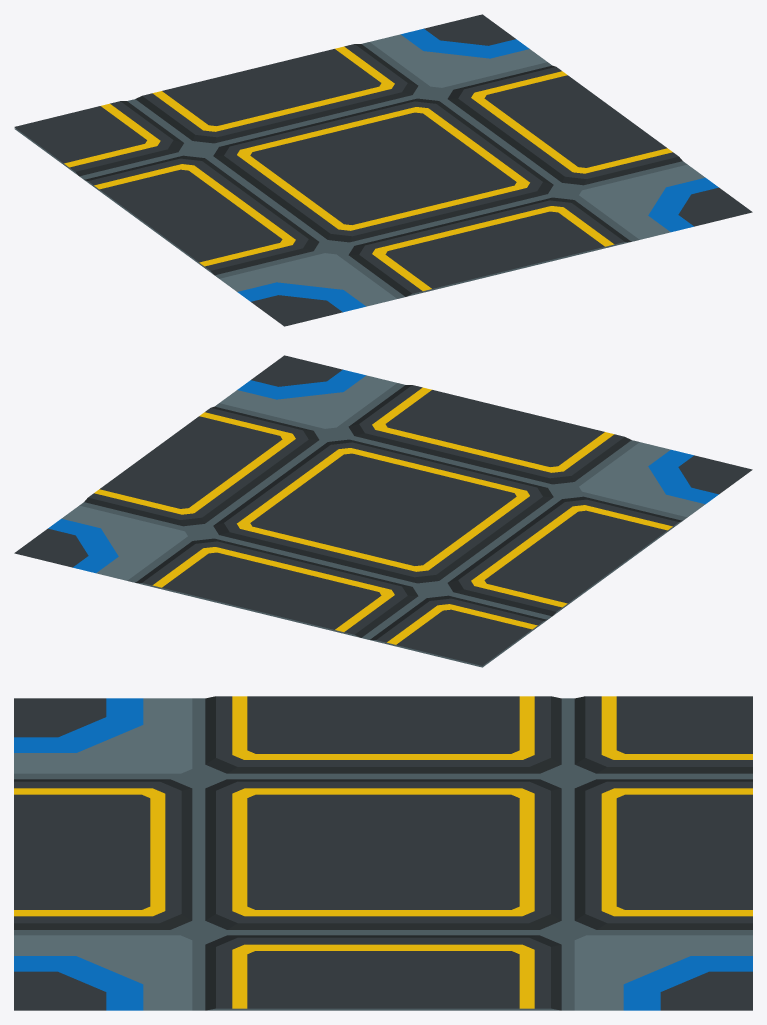
File: Floor_type_C_035.glb
3 views of the same model, one above another, from view 1: azimuth 30°, elevation 25°; view 2: azimuth 150°, elevation 25°; view 3: azimuth 270°, elevation 25° (orthographic). The views are drawn at different scales.
Parts seen in each view (by area): view 1: Floor_type_C_035; view 2: Floor_type_C_035; view 3: Floor_type_C_035.
Boxes of the visible parts, box(x1,y1,x2,y2) form: Floor_type_C_035: box(14, 14, 752, 326); Floor_type_C_035: box(14, 355, 752, 667); Floor_type_C_035: box(14, 696, 752, 1010).
Bounding box in the file's own units: 4 × 0.0134 × 4.
Materials: 2 (2 with a texture image).
